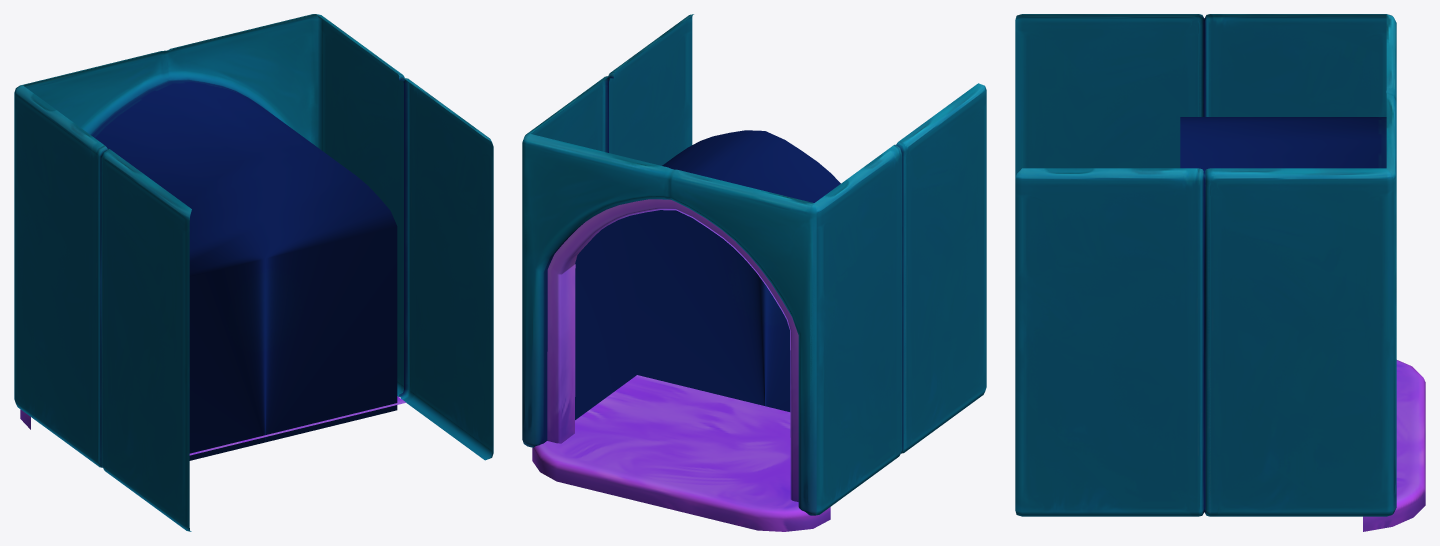
Rendered from WallColumnDoorEnter.fbx.
The picture shows the model from 3 angles, left to right: view 1: azimuth 30°, elevation 25°; view 2: azimuth 150°, elevation 25°; view 3: azimuth 270°, elevation 25°; orthographic projection. The views are drawn at different scales.
Parts seen in each view (by area): view 1: WallColumnDoorEnter; view 2: WallColumnDoorEnter; view 3: WallColumnDoorEnter.
Boxes of the visible parts, bbox=[...] form: WallColumnDoorEnter: bbox=[14, 14, 493, 531]; WallColumnDoorEnter: bbox=[522, 14, 986, 531]; WallColumnDoorEnter: bbox=[1015, 14, 1425, 531].
Size of the model in its own units: 100 by 104 by 107.
